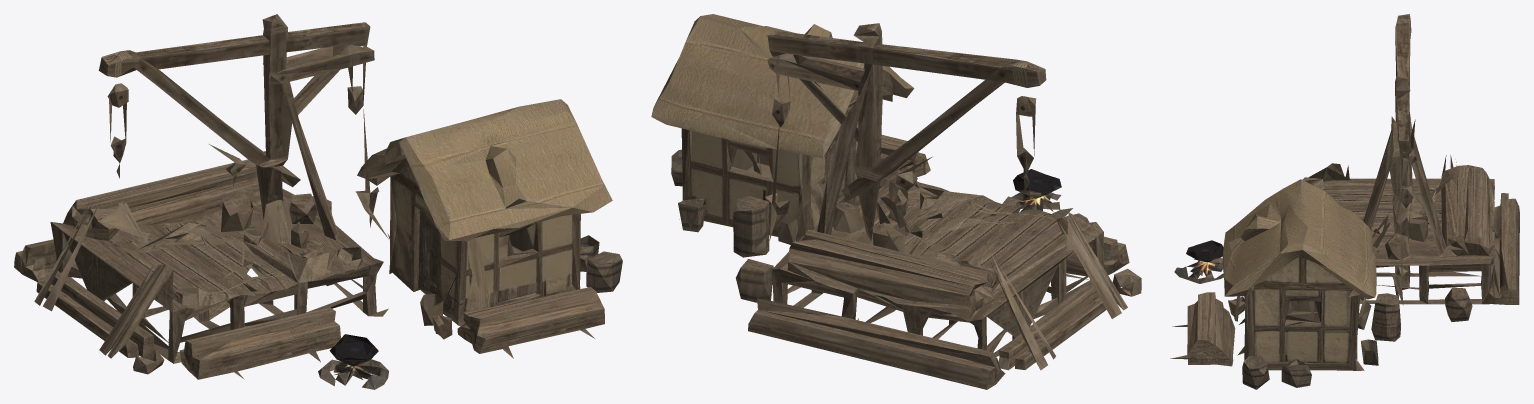
Rendered from dock.glb.
3 renders of one model, left to right at view 1: azimuth 30°, elevation 25°; view 2: azimuth 150°, elevation 25°; view 3: azimuth 270°, elevation 25°, orthographic. The views are drawn at different scales.
Visible parts, largest first — view 1: Mesh_0; view 2: Mesh_0; view 3: Mesh_0.
Boxes of the visible parts, bbox=[...] form: Mesh_0: bbox=[14, 14, 622, 389]; Mesh_0: bbox=[651, 14, 1141, 389]; Mesh_0: bbox=[1170, 14, 1519, 389].
Bounding box in the file's own units: 1.9 × 1.02 × 1.53.
1 material, 1 textured.
